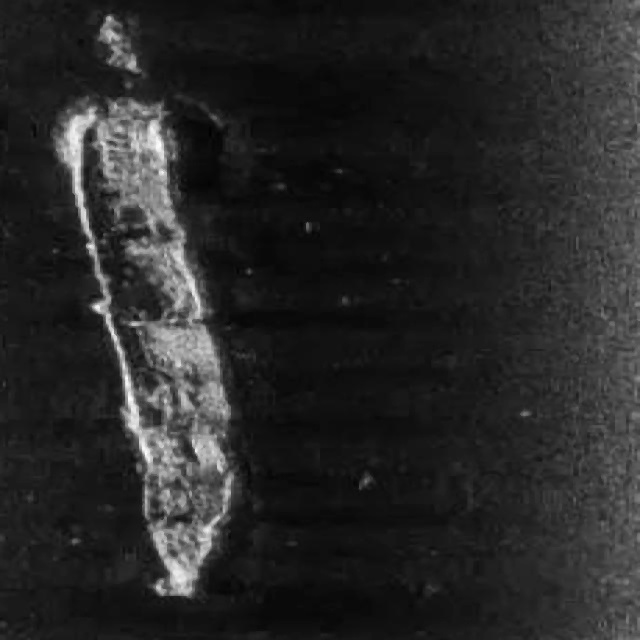Ship: (35, 12, 273, 615)
